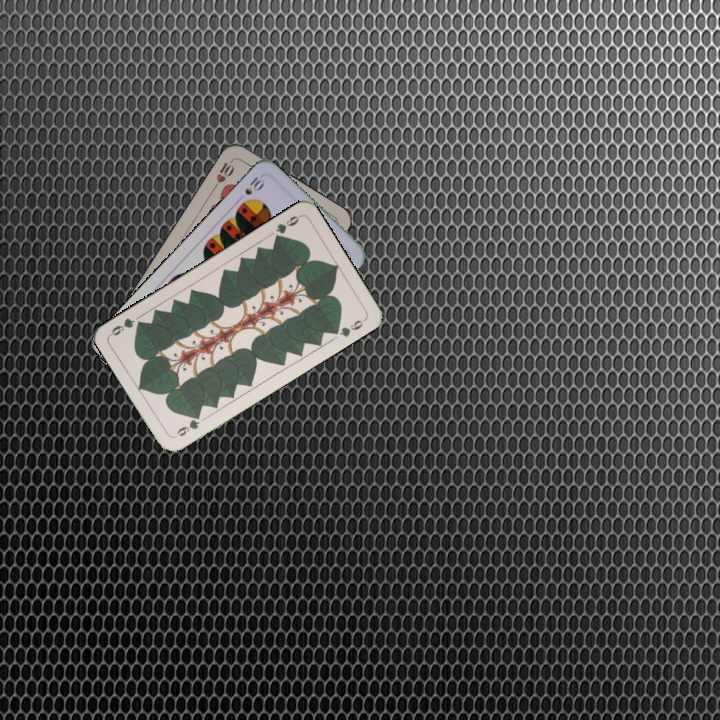G9: (270, 211, 303, 243), (171, 410, 203, 440)
H10: (209, 155, 237, 191)
S10: (233, 171, 267, 204)
